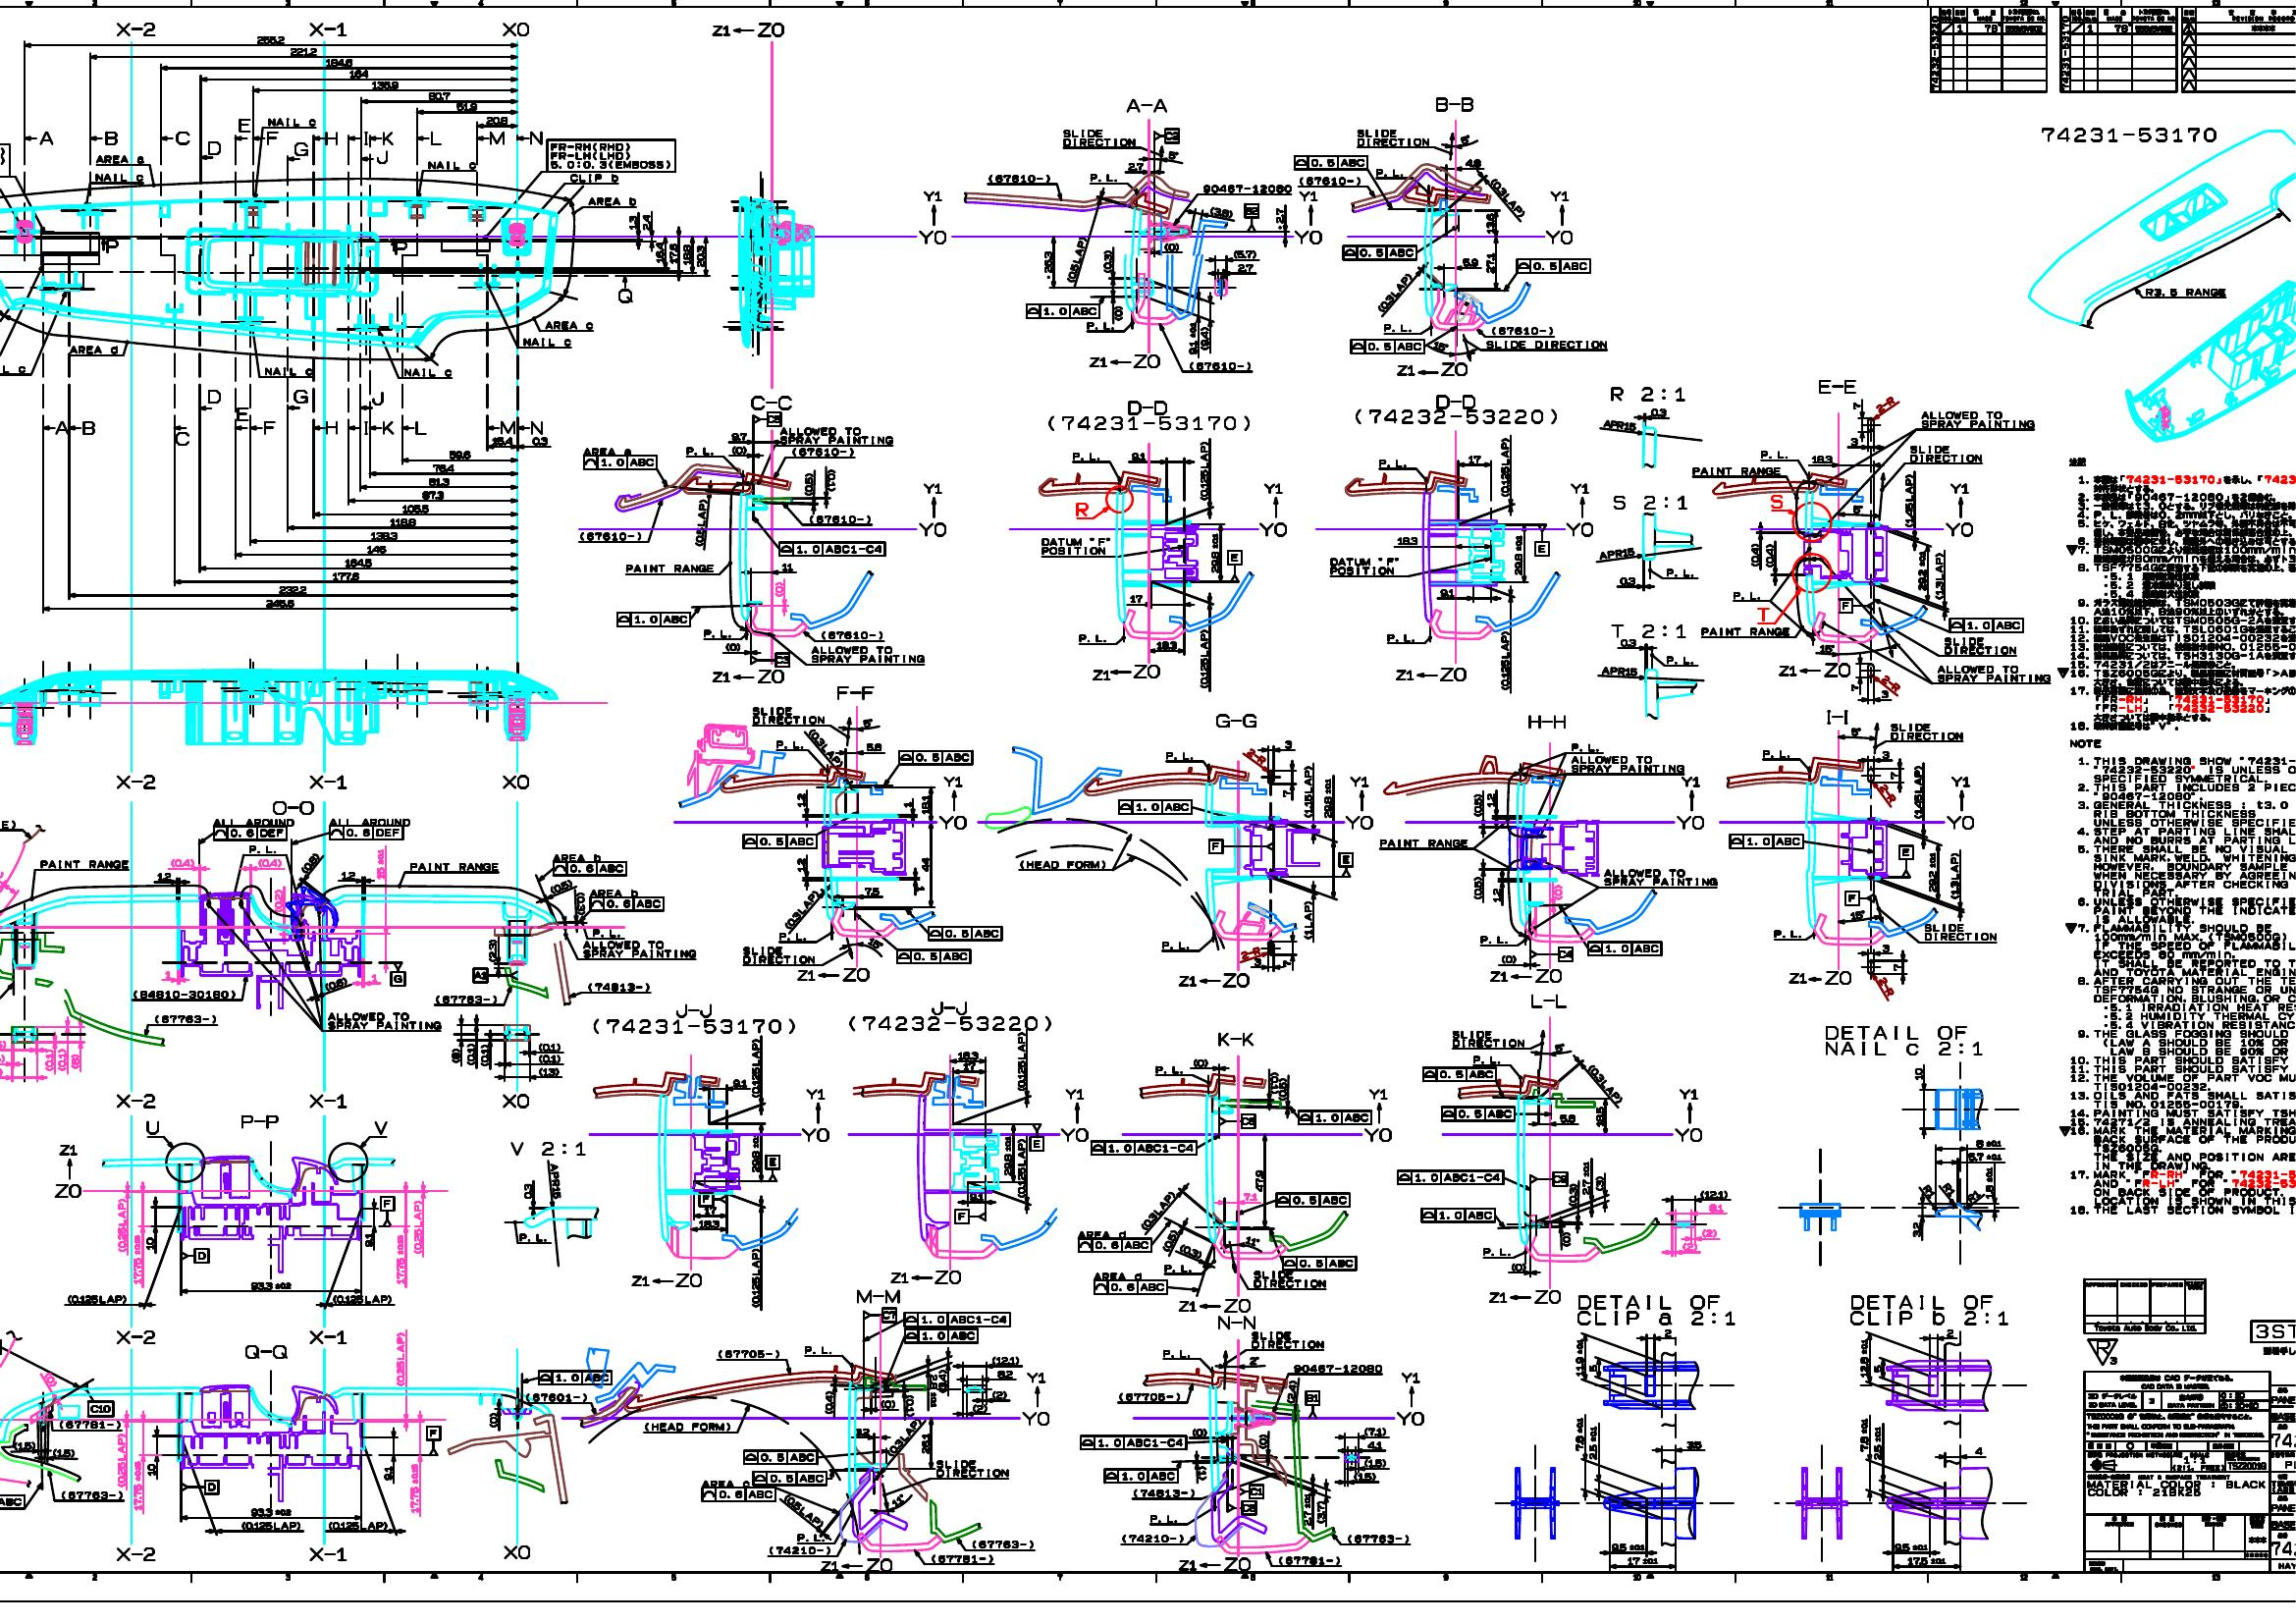anntotation_text: (2057, 455, 2296, 1216), (847, 1000, 1051, 1032), (1047, 399, 1249, 431), (594, 1002, 796, 1033), (1354, 394, 1556, 424), (1576, 1294, 1736, 1327), (1850, 1294, 2008, 1325), (1825, 1025, 1982, 1056), (548, 139, 675, 172), (2041, 127, 2217, 142), (780, 425, 892, 445), (327, 1011, 443, 1028), (1602, 868, 1718, 886), (812, 645, 926, 663), (1936, 664, 2050, 682), (581, 940, 696, 958), (213, 817, 295, 840), (1569, 756, 1685, 772), (1920, 411, 2034, 427), (329, 817, 411, 838), (1093, 1271, 1166, 1294), (917, 482, 947, 538), (905, 1311, 1010, 1327), (1080, 1434, 1186, 1450), (553, 852, 625, 875), (1293, 190, 1323, 244), (917, 190, 947, 244), (1258, 483, 1288, 538), (1059, 1088, 1089, 1142), (588, 889, 664, 910), (1565, 482, 1593, 538), (1945, 482, 1973, 538), (581, 446, 655, 468), (701, 1480, 775, 1501), (1397, 1371, 1425, 1425), (938, 775, 966, 830), (1346, 775, 1374, 830), (1676, 775, 1704, 830), (1946, 775, 1975, 830), (1674, 1088, 1702, 1142), (1363, 1088, 1391, 1142), (801, 1088, 829, 1142), (1021, 1371, 1049, 1425), (1079, 1230, 1151, 1251), (778, 541, 884, 555), (1091, 1141, 1196, 1155), (1546, 190, 1572, 244), (54, 1144, 81, 1199), (1356, 128, 1430, 146), (1063, 128, 1137, 146), (1943, 636, 2017, 654), (750, 707, 824, 724), (741, 946, 815, 963), (1890, 722, 1964, 740), (1924, 923, 1997, 940), (1451, 1030, 1525, 1048), (1398, 1171, 1504, 1183), (1253, 1269, 1326, 1287), (1251, 1330, 1325, 1348), (1910, 445, 1982, 462), (936, 1459, 1008, 1476), (1040, 538, 1110, 555), (1609, 622, 1686, 638), (509, 1141, 587, 1156), (1330, 557, 1398, 575), (711, 668, 785, 684), (796, 967, 870, 982), (1177, 1555, 1251, 1571), (1295, 155, 1367, 170), (711, 21, 783, 37), (1395, 666, 1467, 682), (1177, 972, 1249, 988), (1730, 833, 1802, 849), (1298, 1109, 1370, 1125), (889, 1269, 961, 1285), (1397, 360, 1467, 376), (1091, 664, 1159, 680), (1484, 339, 1607, 348), (1613, 496, 1688, 510), (1609, 387, 1685, 401), (1351, 339, 1425, 353), (1516, 258, 1590, 272), (1950, 619, 2024, 633), (743, 835, 817, 849), (928, 926, 1001, 940), (898, 750, 971, 765), (1117, 800, 1191, 814), (1588, 940, 1662, 954), (1440, 1106, 1514, 1120), (1423, 1067, 1497, 1081), (1275, 1192, 1349, 1206), (752, 1471, 826, 1485), (1105, 1469, 1179, 1483), (1026, 304, 1098, 318), (617, 612, 689, 626), (1778, 663, 1850, 677), (1490, 968, 1562, 982), (1488, 1290, 1560, 1304), (1421, 1207, 1493, 1222), (1179, 1299, 1251, 1313), (631, 1272, 703, 1287), (905, 1329, 977, 1343), (1089, 353, 1159, 367), (1700, 626, 1790, 636), (409, 861, 499, 872), (1203, 183, 1291, 193), (132, 990, 235, 998), (1342, 246, 1416, 258), (1282, 1257, 1356, 1269), (538, 1371, 611, 1383), (743, 1450, 817, 1462), (2085, 1338, 2117, 1366), (1788, 970, 1852, 984), (898, 949, 970, 961), (820, 1557, 892, 1570), (1692, 466, 1781, 475), (39, 859, 128, 868), (1293, 1364, 1383, 1373), (748, 394, 792, 411), (625, 564, 713, 573), (1379, 838, 1467, 847), (1019, 859, 1105, 868), (645, 1422, 731, 1431), (856, 1288, 899, 1304), (272, 800, 314, 816), (1216, 712, 1258, 728), (116, 773, 156, 789), (1527, 714, 1567, 729), (116, 1093, 156, 1109), (244, 1345, 288, 1359), (1435, 97, 1474, 112), (116, 21, 155, 37), (307, 21, 346, 37), (307, 1329, 346, 1345), (116, 1547, 155, 1562), (1124, 98, 1166, 112), (1530, 993, 1567, 1009), (1217, 1032, 1254, 1048), (309, 1093, 346, 1109), (309, 1547, 346, 1562), (2145, 288, 2226, 295), (1816, 380, 1857, 394), (239, 1114, 279, 1128), (116, 1329, 156, 1343), (791, 446, 854, 455), (587, 982, 650, 991), (717, 1350, 780, 1359), (1121, 1534, 1184, 1543), (1117, 1392, 1180, 1401), (307, 775, 346, 789), (836, 685, 875, 700), (1217, 1315, 1256, 1329), (1491, 325, 1553, 334), (1298, 176, 1360, 185), (808, 515, 870, 524), (820, 631, 882, 640), (155, 1014, 216, 1023), (60, 1420, 121, 1429), (971, 1540, 1033, 1548), (931, 1554, 993, 1562), (769, 1545, 831, 1554), (1347, 1534, 1409, 1543), (1133, 1489, 1195, 1497), (1279, 1555, 1339, 1564), (267, 116, 316, 127), (404, 367, 451, 378), (502, 773, 529, 791), (987, 174, 1051, 181), (502, 21, 531, 37), (501, 1093, 529, 1109), (1189, 362, 1251, 369), (587, 197, 636, 206), (569, 172, 618, 181), (427, 160, 476, 169), (95, 155, 144, 163), (95, 172, 144, 181), (545, 320, 594, 329), (522, 337, 571, 346), (69, 344, 118, 353), (436, 995, 497, 1002), (61, 1490, 123, 1497), (525, 1394, 587, 1401), (264, 366, 311, 374), (502, 1545, 531, 1559), (1825, 708, 1848, 724), (88, 1401, 112, 1415), (1773, 928, 1801, 939), (1483, 1246, 1511, 1257), (1383, 323, 1412, 332), (174, 130, 190, 146), (37, 130, 53, 146), (372, 1120, 388, 1135), (1086, 322, 1114, 330), (1089, 172, 1117, 181), (685, 446, 713, 455), (703, 629, 731, 638), (1386, 633, 1414, 642), (1665, 656, 1693, 664), (1665, 568, 1693, 576), (1760, 450, 1788, 459), (1732, 591, 1760, 599), (248, 844, 276, 852), (592, 928, 620, 937), (775, 740, 803, 749), (778, 932, 806, 940), (1165, 750, 1193, 759), (1161, 940, 1189, 949), (1570, 742, 1599, 750), (1479, 935, 1507, 944), (1762, 749, 1790, 758), (1472, 1055, 1500, 1063), (1154, 1065, 1182, 1074), (1163, 1264, 1191, 1272), (518, 1232, 546, 1241), (1149, 1513, 1177, 1522), (1079, 633, 1105, 642), (798, 1533, 824, 1541), (805, 1345, 831, 1353), (488, 130, 504, 144), (323, 130, 337, 146), (293, 141, 307, 156), (104, 130, 118, 146), (617, 288, 632, 302), (176, 431, 190, 446), (293, 388, 307, 404), (499, 420, 515, 434), (1075, 501, 1089, 517), (1226, 550, 1242, 564), (954, 1209, 970, 1223), (146, 1120, 160, 1135), (1375, 169, 1404, 176), (1165, 128, 1179, 142), (393, 241, 408, 255), (529, 130, 543, 144), (207, 141, 221, 155), (105, 239, 119, 253), (54, 420, 69, 434), (81, 420, 95, 434), (207, 388, 221, 402), (381, 420, 395, 434), (766, 411, 780, 425), (775, 652, 789, 666), (1072, 452, 1100, 459), (1379, 459, 1407, 466), (1534, 541, 1548, 555), (1769, 494, 1783, 508), (390, 972, 404, 986), (473, 968, 487, 982), (1558, 947, 1572, 961), (1845, 891, 1859, 905), (1899, 845, 1913, 859), (1553, 1171, 1567, 1185), (1029, 1137, 1043, 1151), (193, 1248, 207, 1262), (204, 1480, 218, 1494), (882, 1308, 896, 1322), (430, 130, 443, 146), (381, 130, 393, 146), (265, 130, 278, 146), (1757, 606, 1769, 622), (1240, 1114, 1256, 1127), (381, 1195, 393, 1211), (371, 390, 383, 406), (1163, 1350, 1189, 1357), (376, 149, 388, 163), (237, 118, 249, 132), (235, 406, 248, 420), (325, 420, 337, 434), (415, 420, 427, 434), (531, 420, 543, 434), (1839, 598, 1852, 612), (1209, 840, 1223, 852), (1339, 852, 1351, 866), (699, 1193, 713, 1206), (1249, 1485, 1263, 1497), (1242, 1501, 1256, 1513), (1305, 1390, 1318, 1404), (1245, 204, 1258, 216), (766, 1156, 778, 1169), (427, 1427, 439, 1439), (264, 420, 274, 434), (364, 130, 369, 146), (364, 420, 369, 434)
dimension_text: (783, 889, 819, 928), (783, 1494, 824, 1527), (887, 1418, 922, 1455), (1142, 1192, 1175, 1230), (808, 729, 841, 766), (1588, 1065, 1621, 1102), (694, 499, 706, 547), (239, 1520, 302, 1529), (329, 1520, 388, 1529), (67, 1294, 126, 1302), (750, 1039, 759, 1098), (332, 1294, 390, 1302), (750, 1250, 759, 1308), (1913, 765, 1922, 819), (1303, 765, 1312, 817), (116, 1434, 125, 1487), (118, 1199, 126, 1251), (413, 1200, 422, 1253), (132, 1234, 141, 1285), (395, 1234, 404, 1285), (550, 1164, 562, 1199), (1200, 629, 1207, 689), (1017, 1137, 1024, 1197), (1017, 1032, 1024, 1090), (1200, 441, 1207, 499), (1950, 852, 1959, 898), (397, 1332, 404, 1387), (302, 852, 320, 874), (1927, 851, 1936, 893), (249, 1508, 292, 1517), (249, 1281, 292, 1290), (411, 1462, 418, 1513), (1860, 1338, 1869, 1378), (1323, 777, 1332, 817), (1303, 900, 1312, 940), (750, 1134, 759, 1174), (323, 977, 348, 991), (134, 1461, 141, 1510), (1574, 1338, 1583, 1376), (1247, 747, 1267, 765), (1880, 784, 1897, 803), (1908, 1555, 1946, 1564), (550, 879, 573, 893), (1163, 1229, 1177, 1251), (1179, 1244, 1202, 1258), (1859, 1417, 1867, 1452), (1588, 1425, 1597, 1461), (1581, 1160, 1590, 1195), (1878, 975, 1894, 995), (1574, 1417, 1583, 1450), (929, 1374, 938, 1408), (1894, 1543, 1927, 1552), (1967, 1151, 2001, 1160), (1005, 1135, 1012, 1176), (1210, 533, 1217, 573), (1627, 1555, 1658, 1564), (1983, 1167, 1992, 1199), (1240, 946, 1260, 960), (991, 1355, 1019, 1364), (1699, 1190, 1727, 1199), (332, 571, 360, 580), (344, 557, 372, 566), (256, 35, 285, 44), (1286, 1380, 1296, 1403), (1874, 1425, 1881, 1459), (1611, 1543, 1644, 1550), (1303, 1492, 1310, 1526), (279, 585, 306, 594), (371, 531, 397, 540), (388, 517, 415, 526), (402, 504, 429, 513), (376, 849, 383, 881), (1472, 793, 1481, 817), (1472, 875, 1481, 900), (827, 468, 836, 492), (170, 858, 195, 866), (265, 599, 295, 606), (258, 858, 281, 866), (488, 939, 497, 961), (576, 891, 585, 914), (1363, 1459, 1386, 1468), (938, 1369, 947, 1392), (905, 1394, 913, 1417), (824, 1390, 833, 1413), (53, 1448, 76, 1457), (1254, 1169, 1263, 1192), (422, 490, 444, 499), (448, 450, 471, 459), (455, 102, 478, 111), (696, 244, 704, 267), (805, 473, 813, 496), (371, 81, 399, 88), (325, 58, 353, 65), (1397, 536, 1418, 545), (1156, 640, 1177, 649), (1363, 1427, 1384, 1436), (1316, 1501, 1325, 1522), (14, 1441, 35, 1450), (957, 1051, 978, 1060), (1595, 1106, 1604, 1127), (1975, 1139, 2001, 1146), (365, 545, 386, 554), (492, 436, 513, 445), (429, 91, 450, 100), (290, 47, 316, 54), (1569, 1183, 1576, 1207), (1943, 1183, 1955, 1197), (1967, 1190, 1982, 1202), (921, 794, 929, 814), (655, 243, 664, 262), (682, 244, 690, 264), (1850, 909, 1866, 919), (274, 889, 281, 912), (1353, 1473, 1375, 1480), (697, 1220, 720, 1227), (58, 1048, 65, 1070), (432, 464, 455, 471), (485, 116, 508, 123), (1685, 1441, 1702, 1450), (1558, 1114, 1576, 1123), (531, 436, 548, 445), (868, 939, 882, 949), (922, 1432, 929, 1454), (891, 1494, 905, 1504), (1245, 1236, 1260, 1246), (1709, 1202, 1723, 1213), (1924, 1185, 1934, 1199), (46, 1049, 53, 1070), (348, 70, 369, 77), (669, 243, 676, 264), (866, 742, 882, 750), (864, 886, 880, 895), (1500, 954, 1516, 963), (1191, 1427, 1207, 1436), (1198, 1464, 1207, 1480), (998, 1369, 1014, 1378), (991, 1390, 1007, 1399), (854, 1427, 870, 1436), (488, 1411, 497, 1427), (383, 1464, 392, 1480), (523, 1183, 532, 1199), (1193, 1058, 1209, 1067), (1242, 1192, 1258, 1200), (1511, 1262, 1527, 1271), (1593, 1176, 1602, 1192), (70, 1053, 79, 1069), (641, 214, 650, 230), (731, 445, 747, 453), (429, 478, 448, 485), (341, 872, 355, 881), (796, 793, 805, 807), (796, 858, 805, 872), (921, 858, 929, 872), (1491, 888, 1500, 902), (1258, 1434, 1267, 1448), (880, 1399, 894, 1408), (146, 1462, 155, 1476), (1562, 1232, 1570, 1246), (1702, 1229, 1716, 1237), (1915, 1067, 1924, 1081), (726, 642, 740, 650), (156, 872, 170, 881), (1850, 726, 1860, 736), (1367, 1441, 1383, 1448), (971, 1404, 987, 1411), (1681, 1243, 1697, 1250), (1913, 1222, 1920, 1237), (629, 214, 636, 230), (731, 432, 747, 439), (775, 582, 782, 598), (1130, 594, 1142, 603), (1486, 793, 1493, 807), (146, 1236, 153, 1250), (733, 1079, 747, 1086), (1131, 452, 1145, 459), (1249, 1355, 1258, 1366), (1555, 1042, 1563, 1053), (782, 562, 792, 571), (365, 1234, 372, 1246), (963, 1062, 975, 1069), (1873, 1364, 1881, 1373), (1664, 1329, 1672, 1338), (863, 717, 871, 726), (1975, 1446, 1983, 1455), (703, 1207, 715, 1213), (1946, 1329, 1953, 1338), (1588, 1364, 1597, 1371), (371, 974, 378, 982), (1284, 740, 1291, 749), (1282, 789, 1289, 798), (1282, 960, 1291, 967), (1892, 963, 1901, 970), (1881, 944, 1890, 951), (1254, 958, 1261, 965), (1881, 750, 1888, 758), (1890, 772, 1897, 779), (163, 970, 170, 977), (903, 801, 912, 807)
title_block: (2083, 1371, 2294, 1571), (1931, 5, 2047, 91), (2061, 5, 2177, 91), (2182, 7, 2296, 93), (2083, 1280, 2206, 1332)
